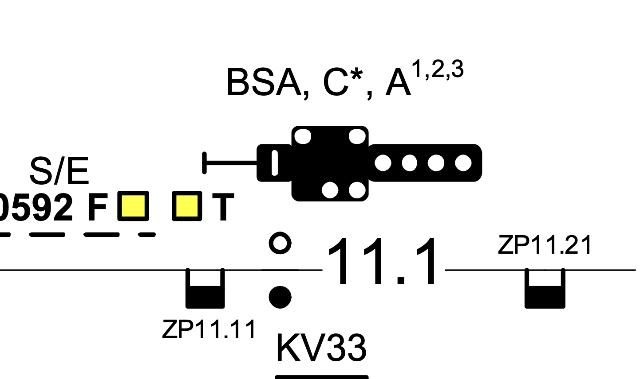radzaehler: (173, 258, 235, 314), (515, 265, 575, 317)
tracknumber: (320, 227, 450, 299)
